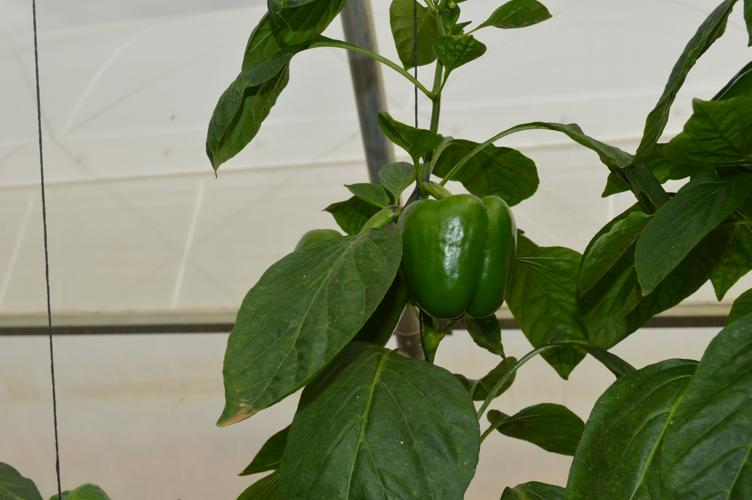BellPepper: (398, 195, 518, 318)
